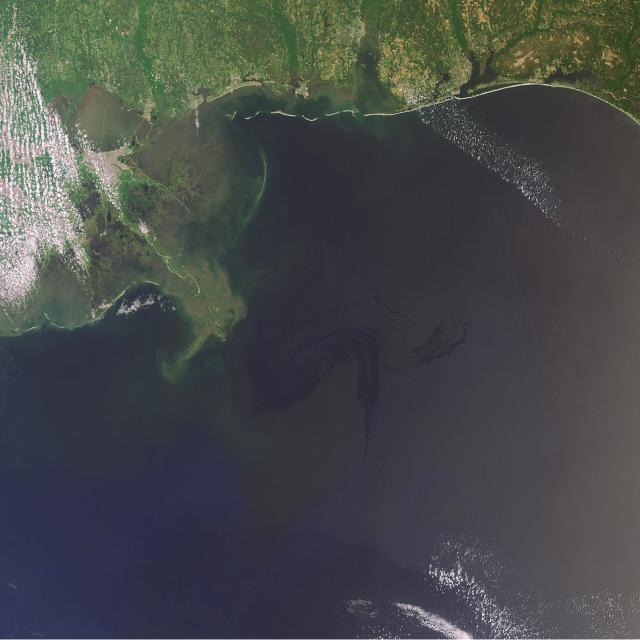oil spill: (252, 330, 378, 444), (405, 322, 467, 366)
